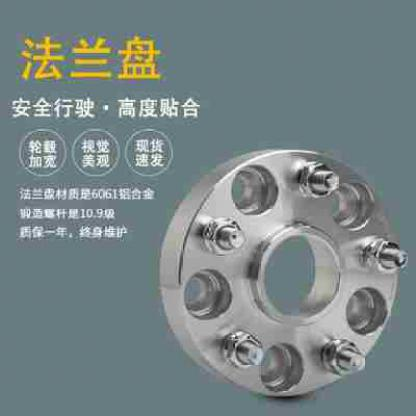FOD: (155, 138, 402, 409)
